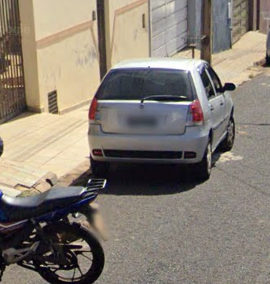car: (76, 39, 245, 183)
